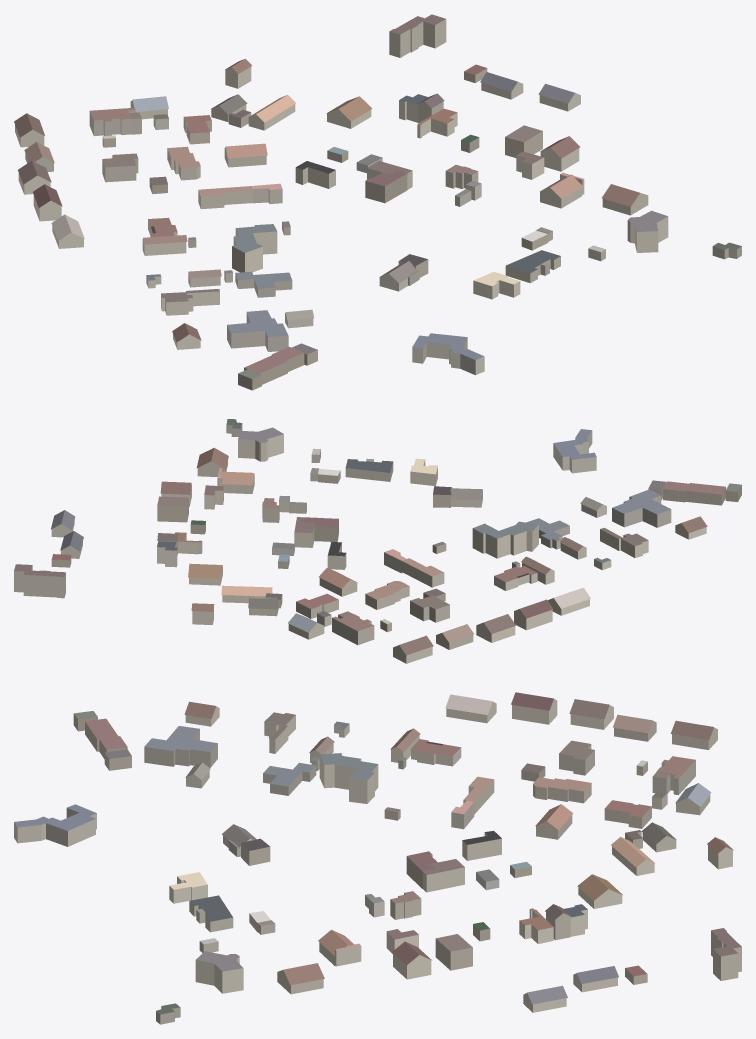
3 renders of one model, top to bottom at view 1: azimuth 30°, elevation 25°; view 2: azimuth 150°, elevation 25°; view 3: azimuth 270°, elevation 25°, orthographic. The views are drawn at different scales.
Visible parts, largest first — view 1: tuile; view 2: tuile; view 3: tuile.
Part boxes in pixels (x1,y1,x2,y2): tuile: [14, 14, 741, 390]; tuile: [14, 419, 741, 663]; tuile: [14, 692, 741, 1024].
Size of the model in its own units: 255 by 26.23 by 269.
